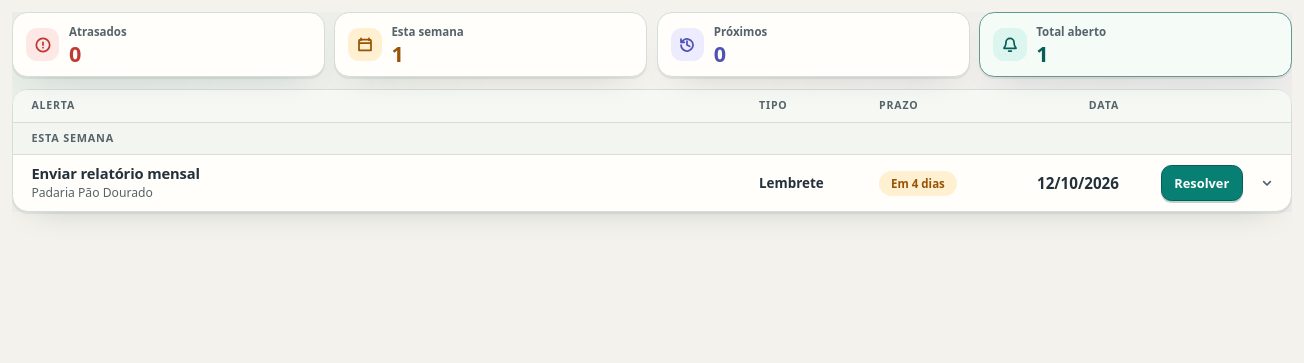
Test case: AlertBoard › mostra o cliente e a repetição do lembrete e leva à ficha dele
Check: the text "Padaria Pão Dourado" is shown, box [31,184,153,201]
Click the button "Enviar relatório mensal". click: (116, 173)
box: [31,164,200,183]
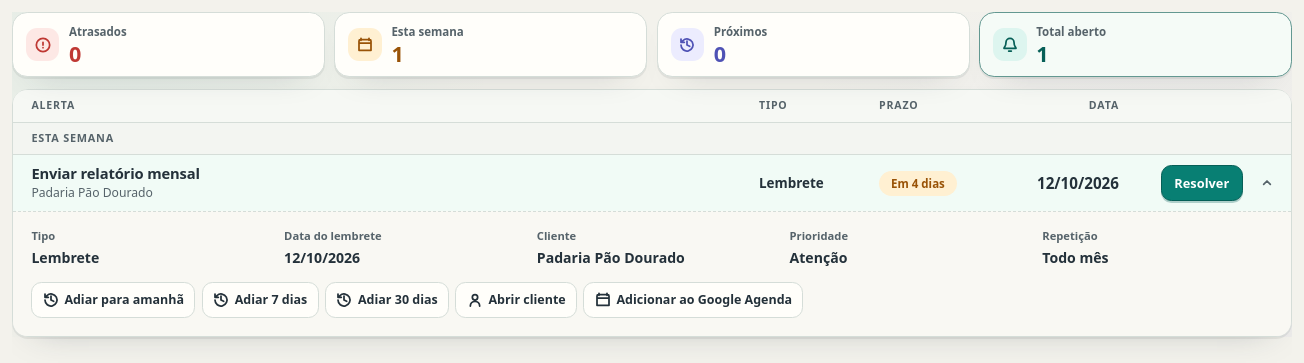
Check: the text "Repetição" is shown, box [1042,228,1098,244]
Check: the text "Todo mês" is shown, box [1042,248,1109,267]
